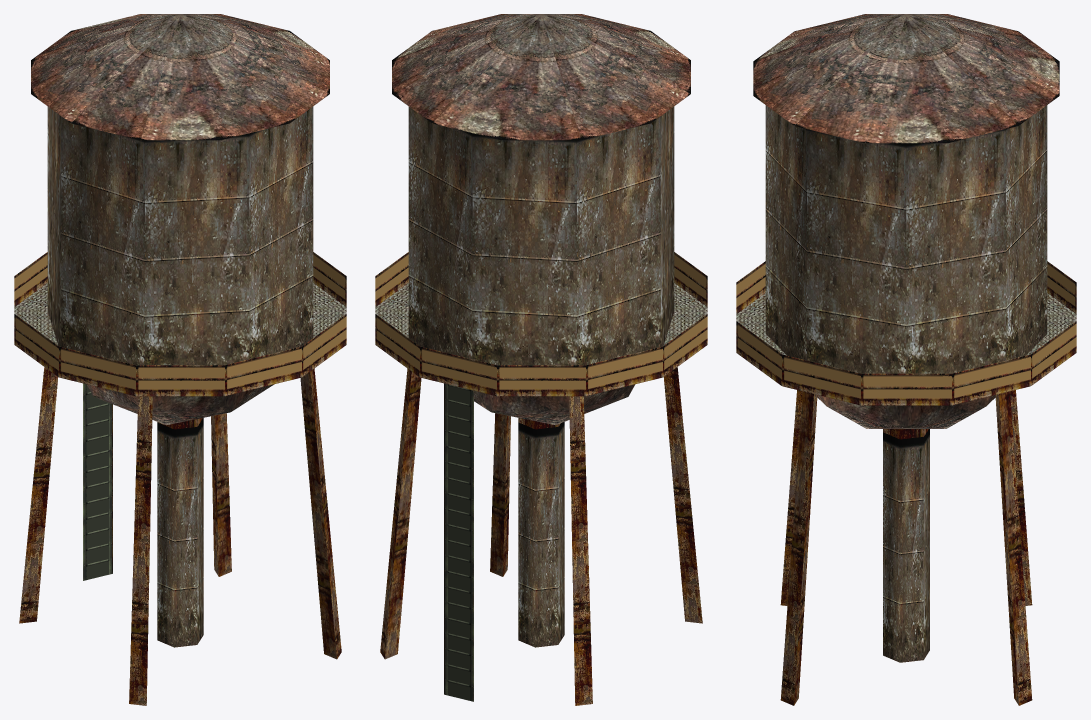
File: watertower_10m.fbx
The picture shows the model from 3 angles, left to right: view 1: azimuth 30°, elevation 25°; view 2: azimuth 150°, elevation 25°; view 3: azimuth 270°, elevation 25°; orthographic projection. The views are drawn at different scales.
Visible parts, largest first — view 1: mesh_0, mesh_1; view 2: mesh_0, mesh_1; view 3: mesh_0, mesh_1.
Part boxes in pixels (<box>): mesh_0: <box>14,14,346,705</box>; mesh_1: <box>14,252,346,580</box>; mesh_0: <box>375,14,707,705</box>; mesh_1: <box>375,252,707,701</box>; mesh_0: <box>736,14,1076,705</box>; mesh_1: <box>736,261,1076,405</box>.
Size of the model in its own units: 483 by 999 by 483.
Materials: 2 (2 with a texture image).
